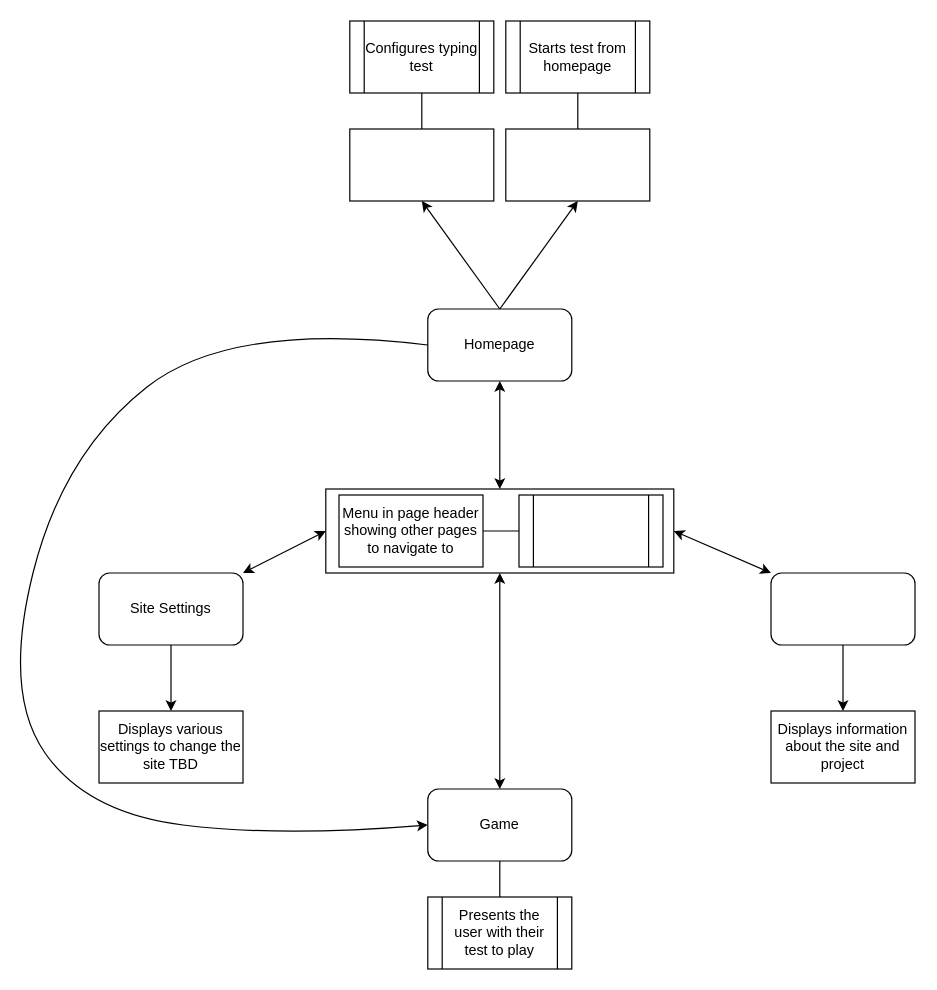
This 937x990 diagram has some shape labels left out. The shapes that lost their labels are listed below. From the top down, each one's centre as x and y in pixels, then its label:
At (x=421, y=164): "Buttons to set options for typing test".
At (x=577, y=164): "Start button".
At (x=590, y=530): "Navigate to other pages".
At (x=842, y=608): "About Sectoin".
